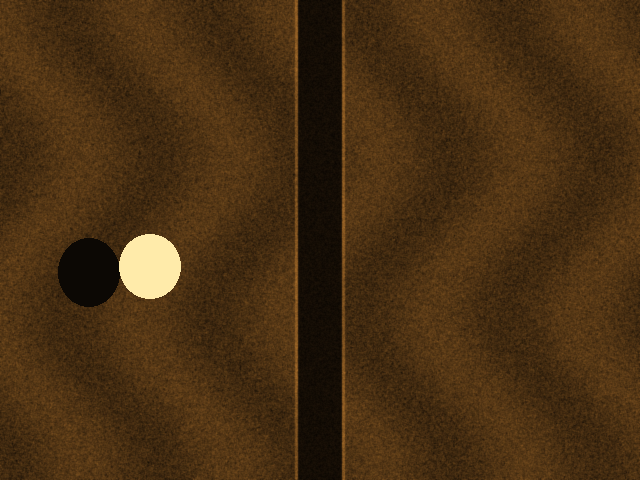Plastic Debris: (119, 234, 180, 298)
